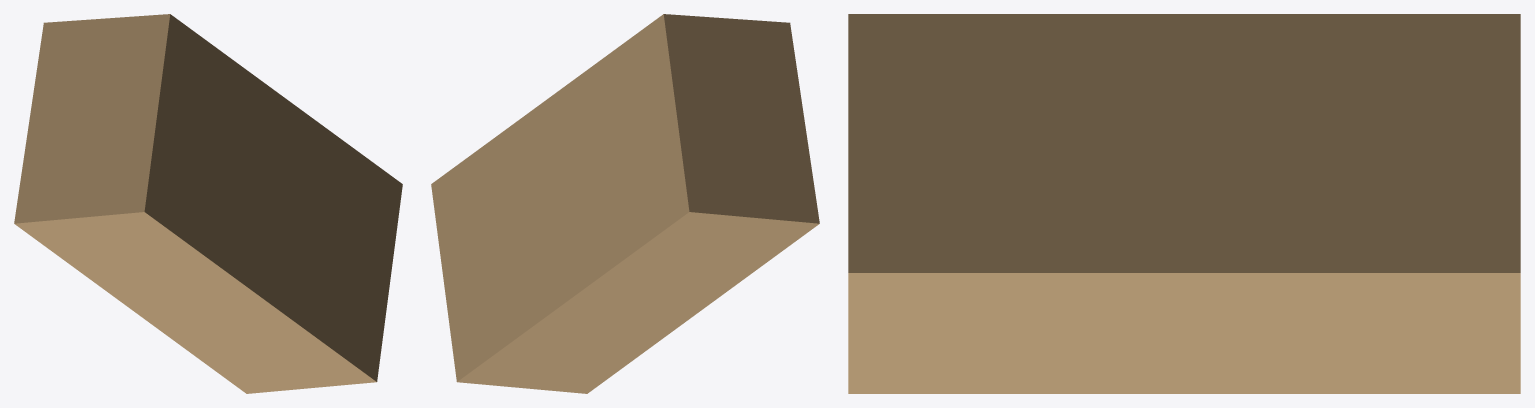
3 renders of one model, left to right at view 1: azimuth 30°, elevation 25°; view 2: azimuth 150°, elevation 25°; view 3: azimuth 270°, elevation 25°, orthographic. The views are drawn at different scales.
Parts seen in each view (by area): view 1: 0_0_3_1_3_3_2_2_3_3; view 2: 0_0_3_1_3_3_2_2_3_3; view 3: 0_0_3_1_3_3_2_2_3_3.
Part boxes in pixels (x1,y1,x2,y2): 0_0_3_1_3_3_2_2_3_3: (14,14,402,393); 0_0_3_1_3_3_2_2_3_3: (431,14,819,393); 0_0_3_1_3_3_2_2_3_3: (848,14,1520,393).
Bounding box in the file's own units: 8.14 × 10.65 × 21.
